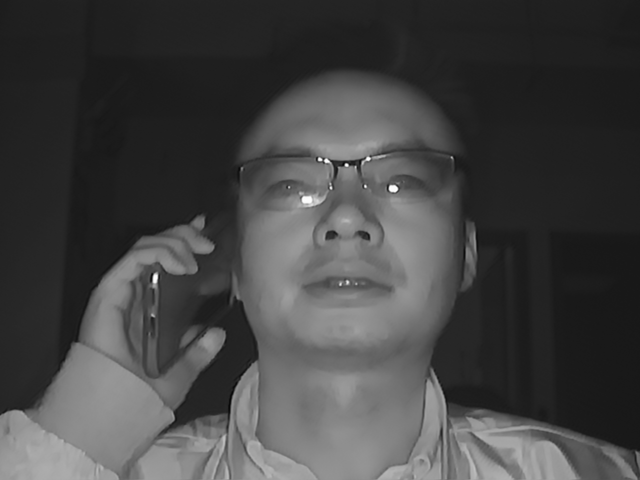hand: (96, 213, 224, 387)
